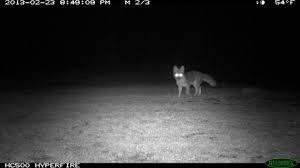fox: (170, 60, 223, 98)
